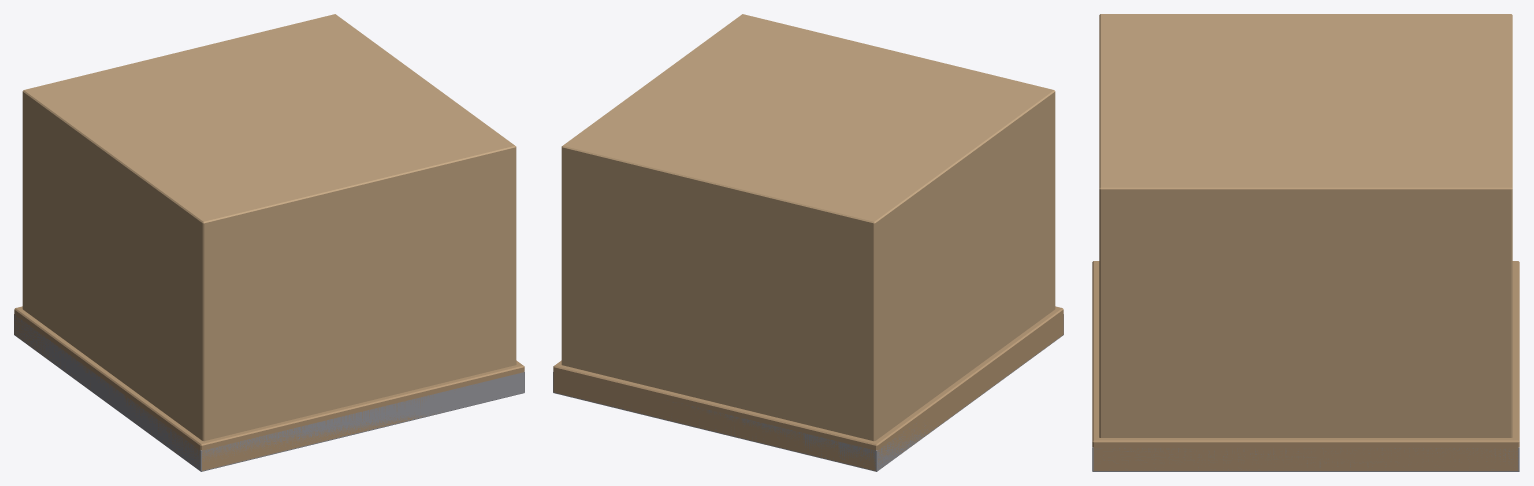
File: crate_opt.glb
3 views of the same model, side by side, from view 1: azimuth 30°, elevation 25°; view 2: azimuth 150°, elevation 25°; view 3: azimuth 270°, elevation 25° (orthographic). The views are drawn at different scales.
Parts seen in each view (by area): view 1: crate; view 2: crate; view 3: crate.
Part boxes in pixels (bbox=[...]): crate: bbox=[14, 14, 524, 471]; crate: bbox=[553, 14, 1063, 471]; crate: bbox=[1092, 14, 1519, 471].
Bounding box in the file's own units: 0.62 × 0.45 × 0.62.
